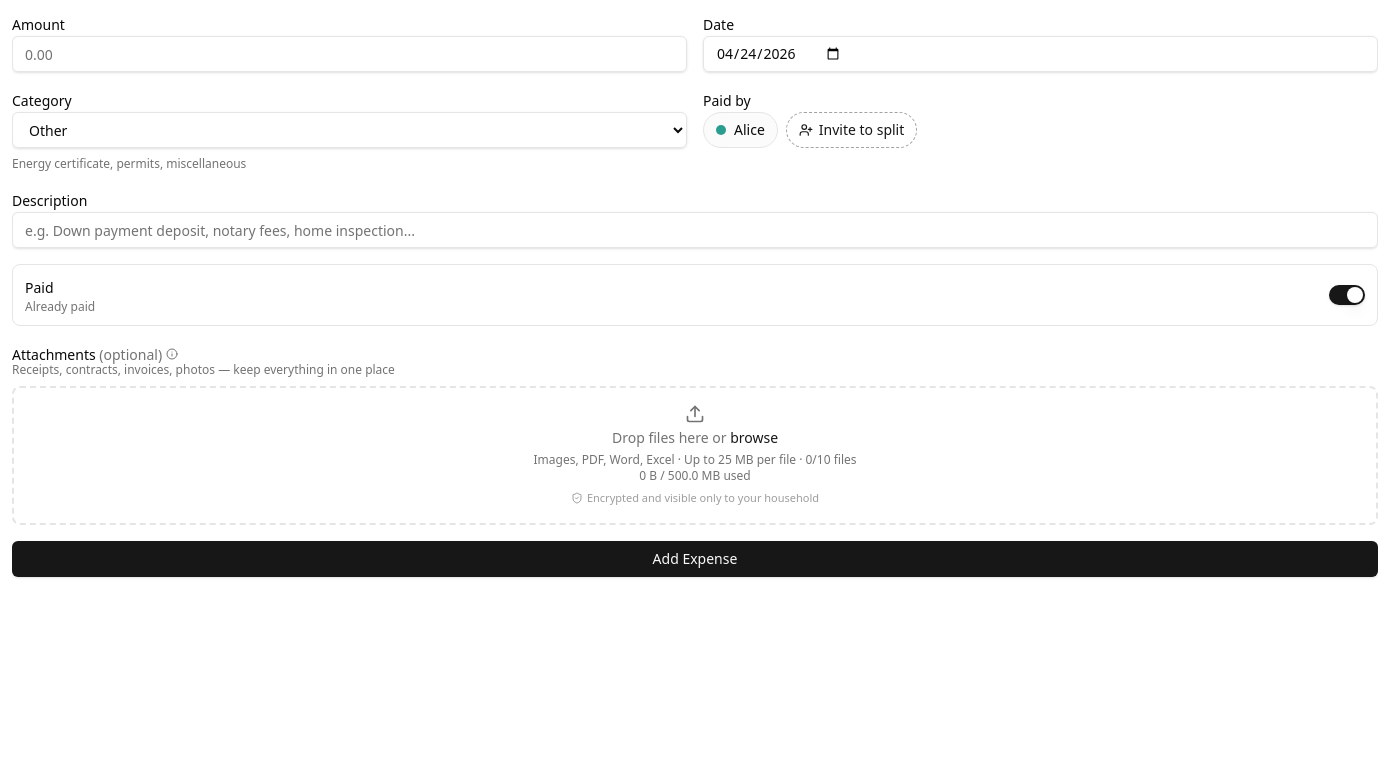
Scenario: ExpenseForm payer behavior › single-member household › closes the helper panel after a successful submit (clean state for next entry)
Click the button "Invite to split": (852, 130) [786, 112, 917, 148]
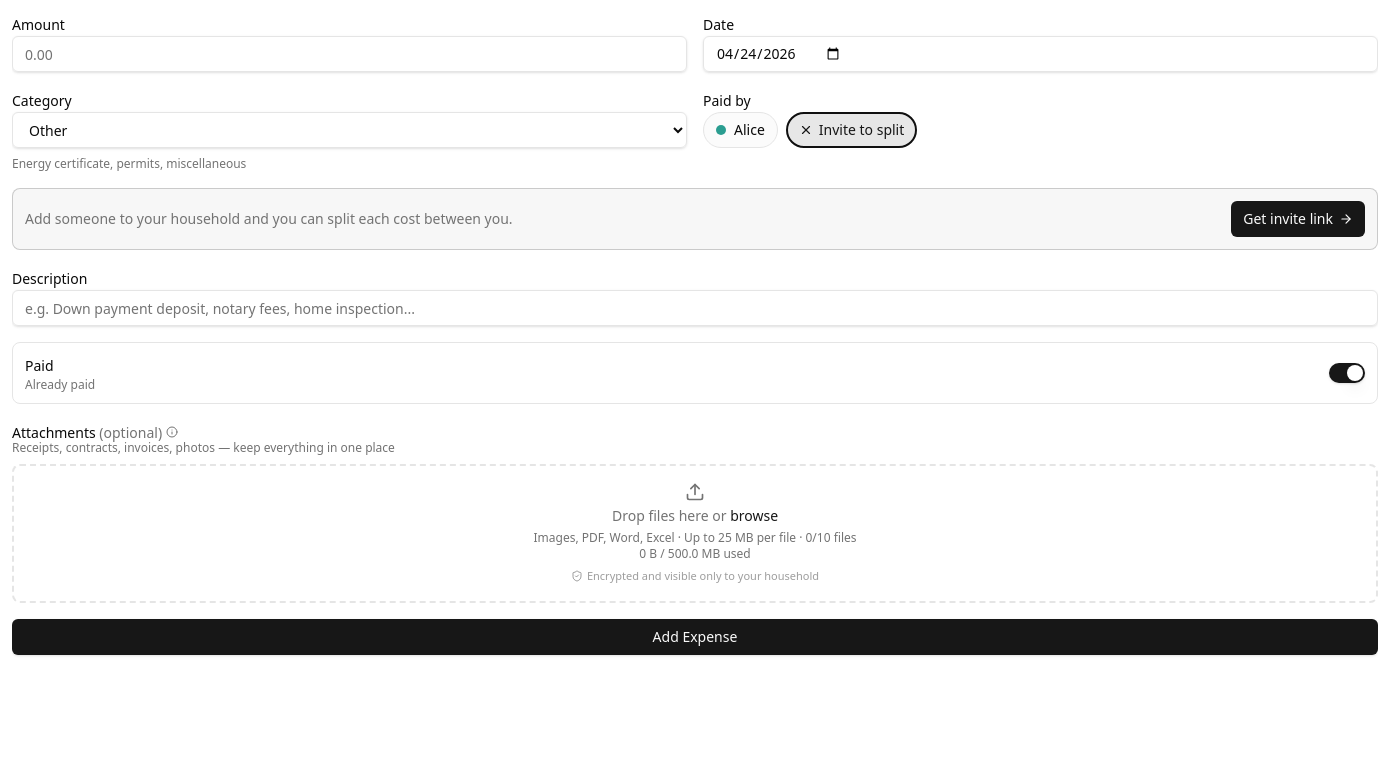
Check: the text "Add someone to your household" is shown, box [25, 209, 513, 228]
In the number field with id "amount": (350, 54) [12, 36, 687, 72], type "12"
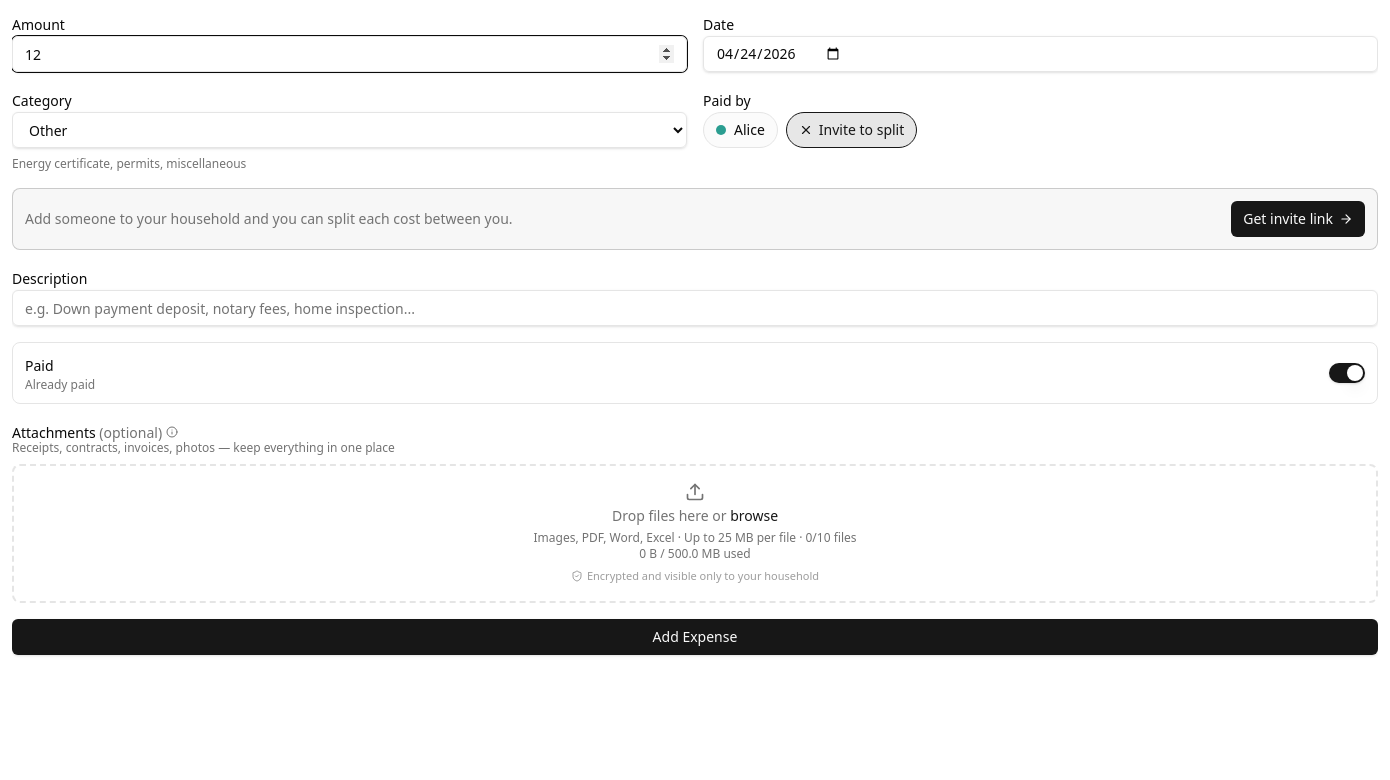
Click the button "Add Expense": (695, 636) [12, 618, 1378, 654]
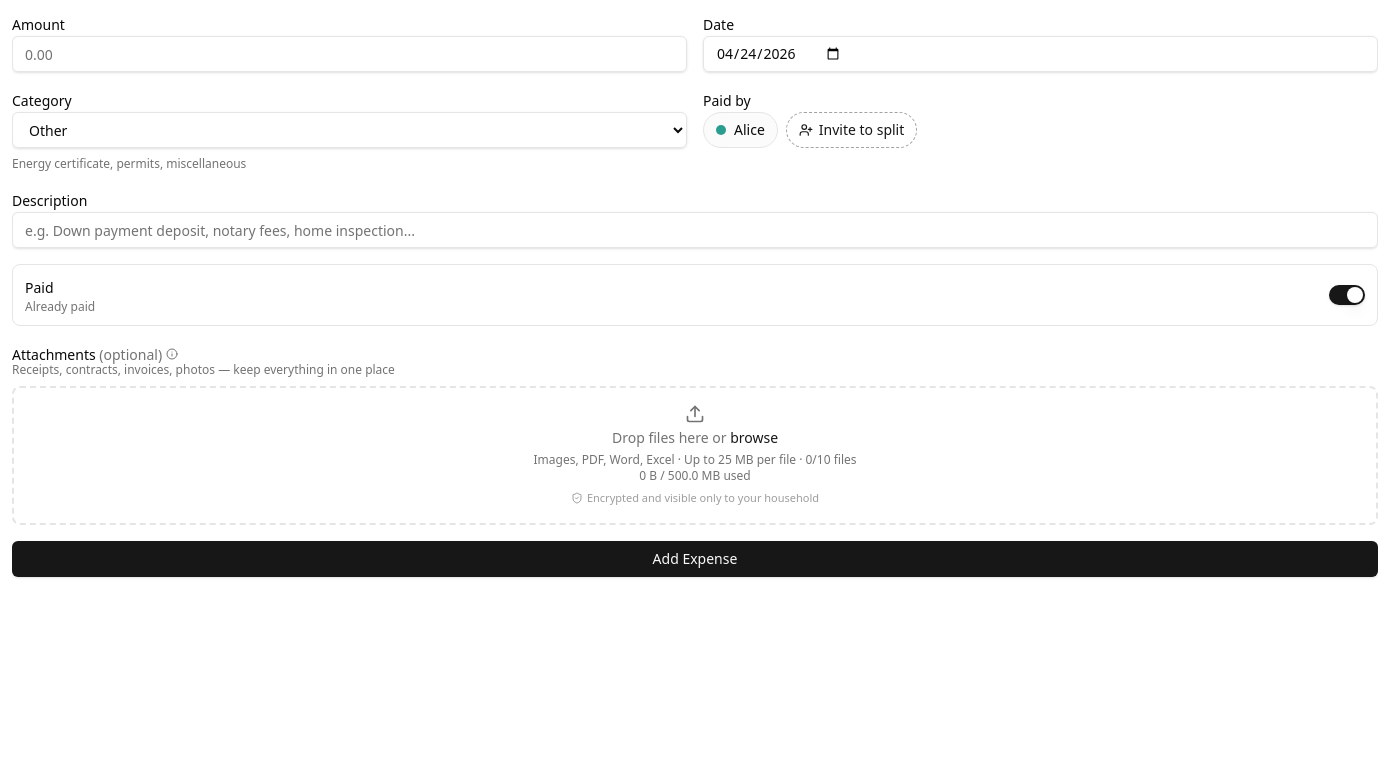
Check: the text "Add someone to your household" is gone
Check: the button "Invite to split" is collapsed, box [786, 112, 917, 148]
